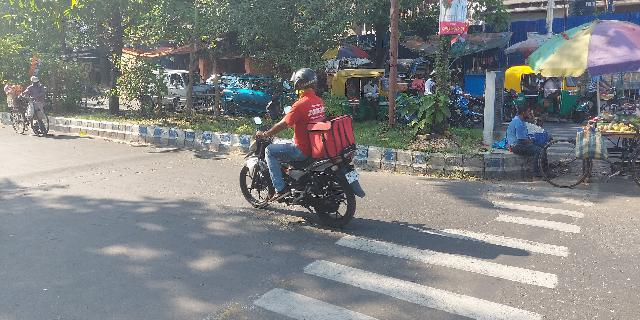Cycle: (7, 74, 55, 140)
Motorbike: (230, 67, 376, 226)
